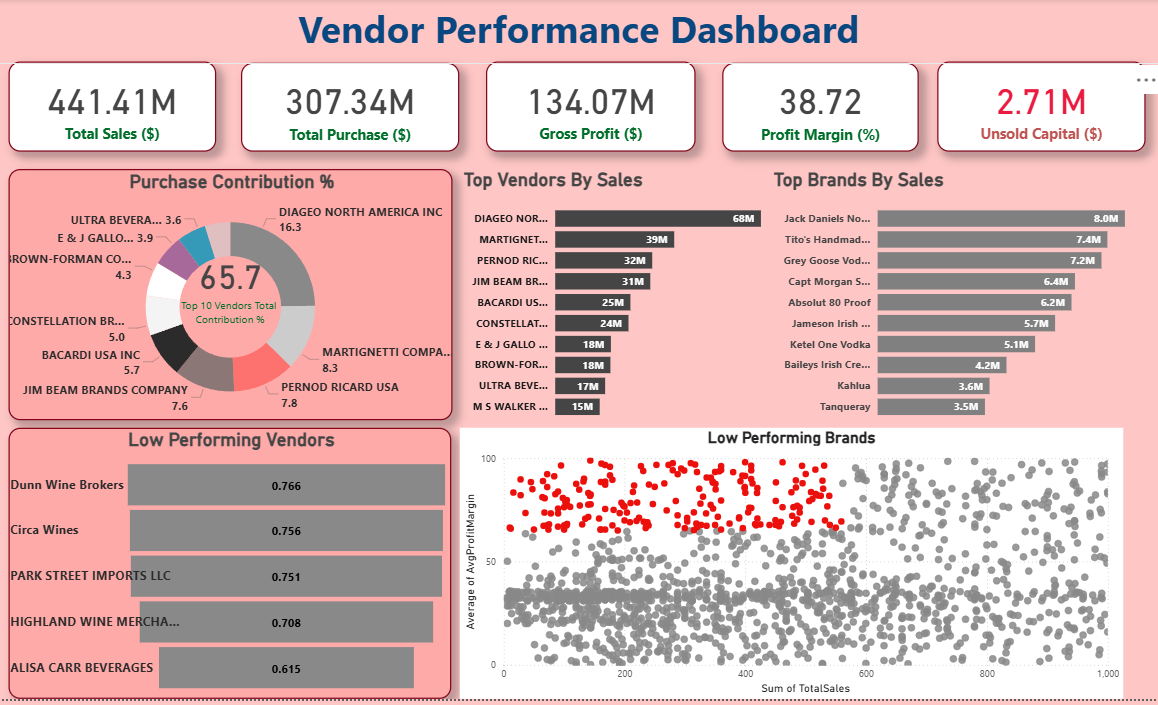

This screenshot's page, from the dashboard's own definition file:
{"tool":"powerbi","page":{"name":"Page 1","canvas":[1500,900],"ordinal":0},"visuals":[{"type":"card","fields":{"Values":["vendor_sales_summary.TotalPurchaseDollars"]},"box":[315.8,82.4,280.9,114.6],"z":0},{"type":"card","fields":{"Values":["vendor_sales_summary.TotalSalesDollars"]},"box":[16.8,81,266.9,116],"z":1000},{"type":"card","fields":{"Values":["vendor_sales_summary.GrossProfit"]},"box":[630.2,81,269.7,116],"z":2000},{"type":"card","fields":{"Values":["vendor_sales_summary.ProfitMargin"]},"box":[934.8,82.4,252.9,114.6],"z":3000},{"type":"card","fields":{"Values":["vendor_sales_summary.UnsoldCapital"]},"box":[1210.1,81,268.3,116],"z":4000},{"type":"textbox","box":[0,0,1500,83],"z":5000},{"type":"donutChart","title":"Purchase Contribution % ","fields":{"Category":["PurchaseContribution.VendorName"],"Y":["PurchaseContribution.PurchaseContribution%"]},"box":[16.1,218.7,570.9,323.2],"z":6000},{"type":"card","fields":{"Values":["PurchaseContribution.PurchaseContribution%"]},"box":[207.4,246,188.1,233.2],"z":7000},{"type":"barChart","title":"Top Vendors By Sales","fields":{"Category":["vendor_sales_summary.VendorName"],"Y":["vendor_sales_summary.TotalSalesDollars"]},"box":[596.6,218.7,440.6,332.9],"z":8000},{"type":"barChart","title":"Top Brands By Sales","fields":{"Category":["vendor_sales_summary.Description"],"Y":["vendor_sales_summary.TotalSalesDollars"]},"box":[995.9,219.2,504.1,332.9],"z":9000},{"type":"funnel","title":"Low Performing Vendors","fields":{"Category":["LowTurnoverVendor.VendorName"],"Y":["LowTurnoverVendor.AvgStockTurnOver"]},"box":[16.1,551.6,569.3,349],"z":10000},{"type":"scatterChart","title":"Low Performing Brands ","fields":{"Category":["BrandPerformance.Description"],"X":["BrandPerformance.TotalSales"],"Y":["BrandPerformance.AvgProfitMargin"],"Series":["BrandPerformance.TargetBrand"]},"box":[596.6,551.6,853.9,349],"z":11000}]}

Visuals, with their boxes in screenshot pixels (x1, y1, x2, y2), scaled from the page's 1500x900 canvas onto the 1158x705 screenshot:
card - vendor_sales_summary.TotalPurchaseDollars: pyautogui.locateOnScreen(244, 65, 461, 154)
card - vendor_sales_summary.TotalSalesDollars: pyautogui.locateOnScreen(13, 63, 219, 154)
card - vendor_sales_summary.GrossProfit: pyautogui.locateOnScreen(487, 63, 695, 154)
card - vendor_sales_summary.ProfitMargin: pyautogui.locateOnScreen(722, 65, 917, 154)
card - vendor_sales_summary.UnsoldCapital: pyautogui.locateOnScreen(934, 63, 1141, 154)
textbox: pyautogui.locateOnScreen(0, 0, 1157, 65)
"Purchase Contribution % " donutChart: pyautogui.locateOnScreen(12, 171, 453, 424)
card - PurchaseContribution.PurchaseContribution%: pyautogui.locateOnScreen(160, 193, 305, 375)
"Top Vendors By Sales" barChart: pyautogui.locateOnScreen(461, 171, 801, 432)
"Top Brands By Sales" barChart: pyautogui.locateOnScreen(769, 172, 1157, 432)
"Low Performing Vendors" funnel: pyautogui.locateOnScreen(12, 432, 452, 704)
"Low Performing Brands " scatterChart: pyautogui.locateOnScreen(461, 432, 1120, 704)
